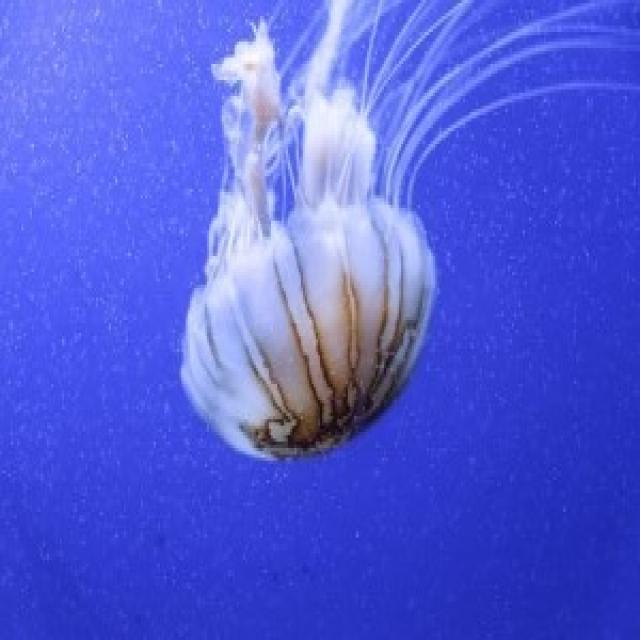Jellyfish: (161, 64, 530, 529)
